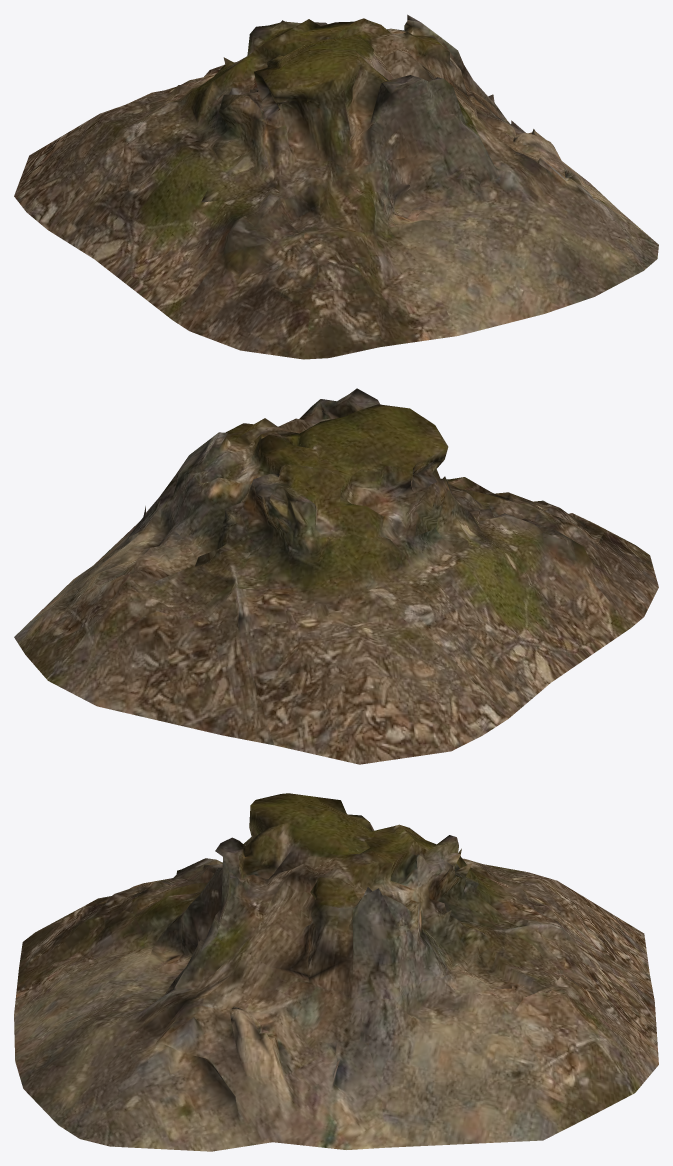
Rendered from tree_stump_01.glb.
The picture shows the model from 3 angles, top to bottom: view 1: azimuth 30°, elevation 25°; view 2: azimuth 150°, elevation 25°; view 3: azimuth 270°, elevation 25°; orthographic projection. The views are drawn at different scales.
Parts seen in each view (by area): view 1: tree_stump_01; view 2: tree_stump_01; view 3: tree_stump_01.
Boxes of the visible parts, x1,y1,x2,y2 form: tree_stump_01: (14,14,658,359); tree_stump_01: (14,388,658,764); tree_stump_01: (14,793,658,1151).
Bounding box in the file's own units: 1.43 × 0.571 × 1.59.
1 material, 1 textured.
